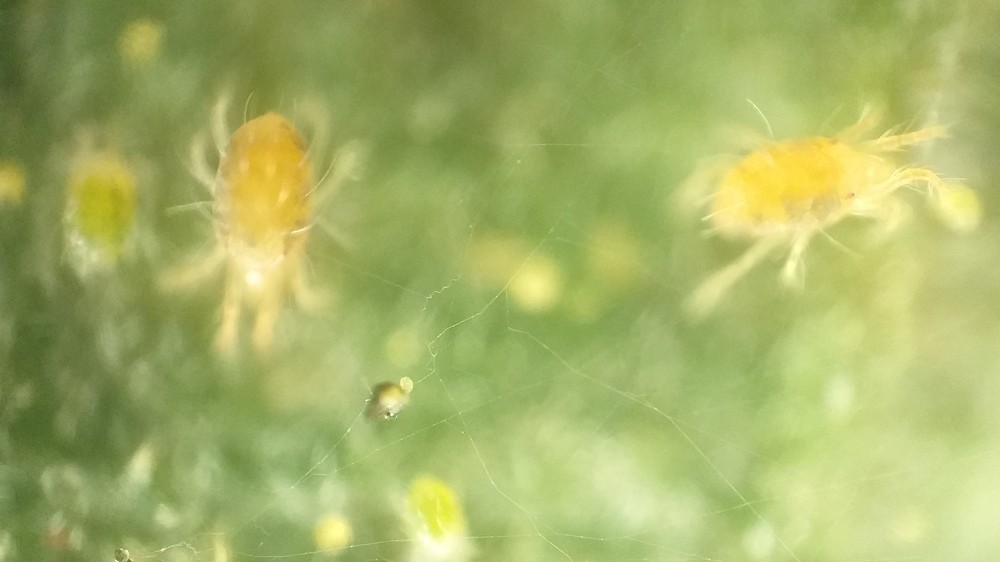Aracnido Rojo: (664, 76, 964, 293), (163, 82, 348, 368), (51, 123, 153, 283)
